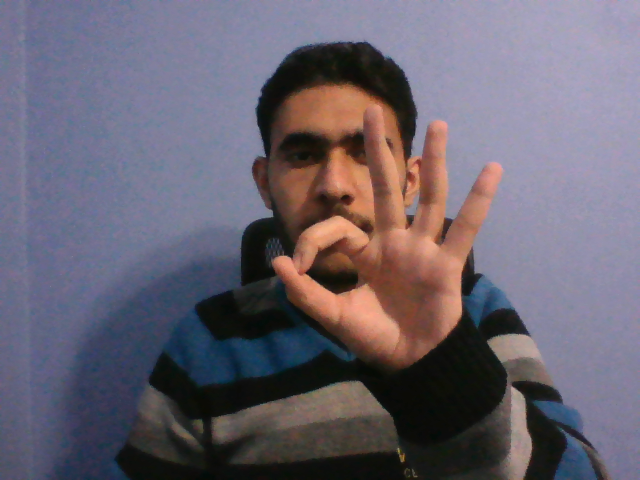F: (268, 99, 509, 381)
